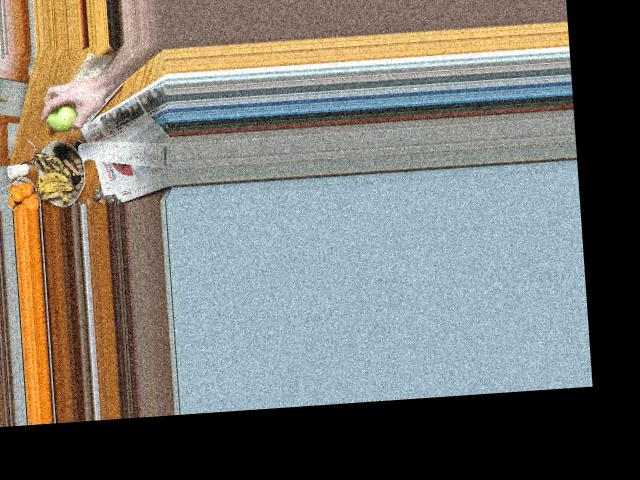apple: (41, 100, 79, 134)
